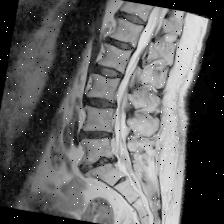disc: (99, 31, 141, 57), (90, 59, 130, 86), (111, 6, 152, 32)
hdisc: (72, 147, 124, 183), (80, 90, 122, 119), (75, 122, 118, 149)
